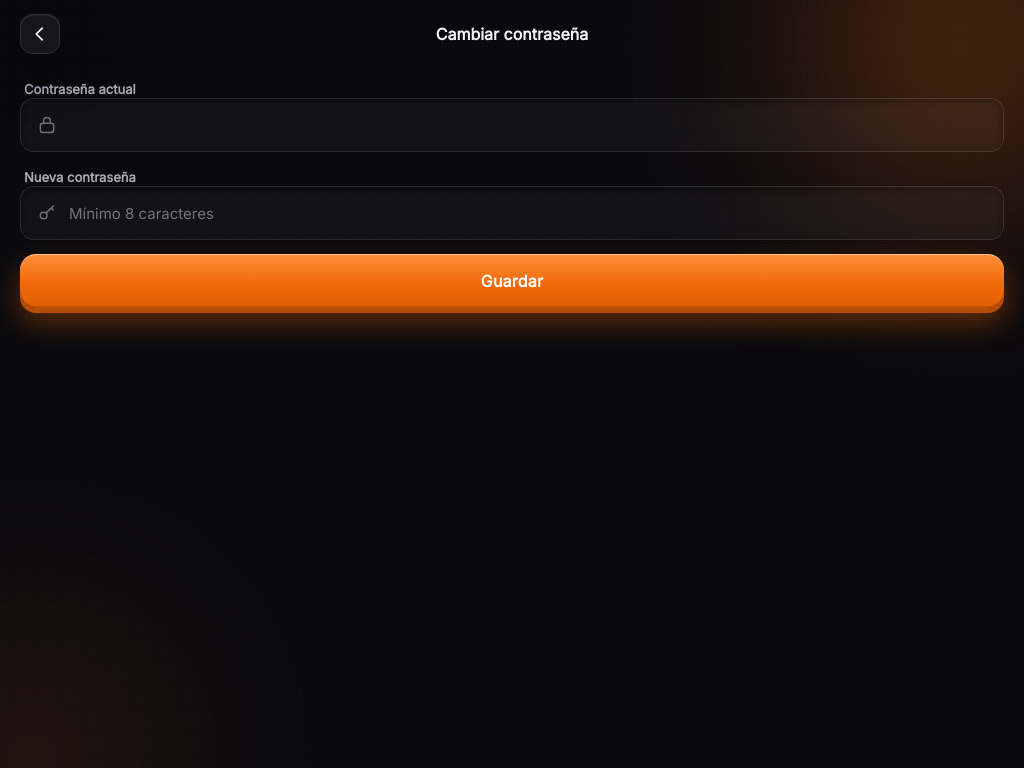
Test case: cambiar contraseña
Type "vieja1234" into the password field labelled "Contraseña actual" at (528, 125), box [69,116,987,134]
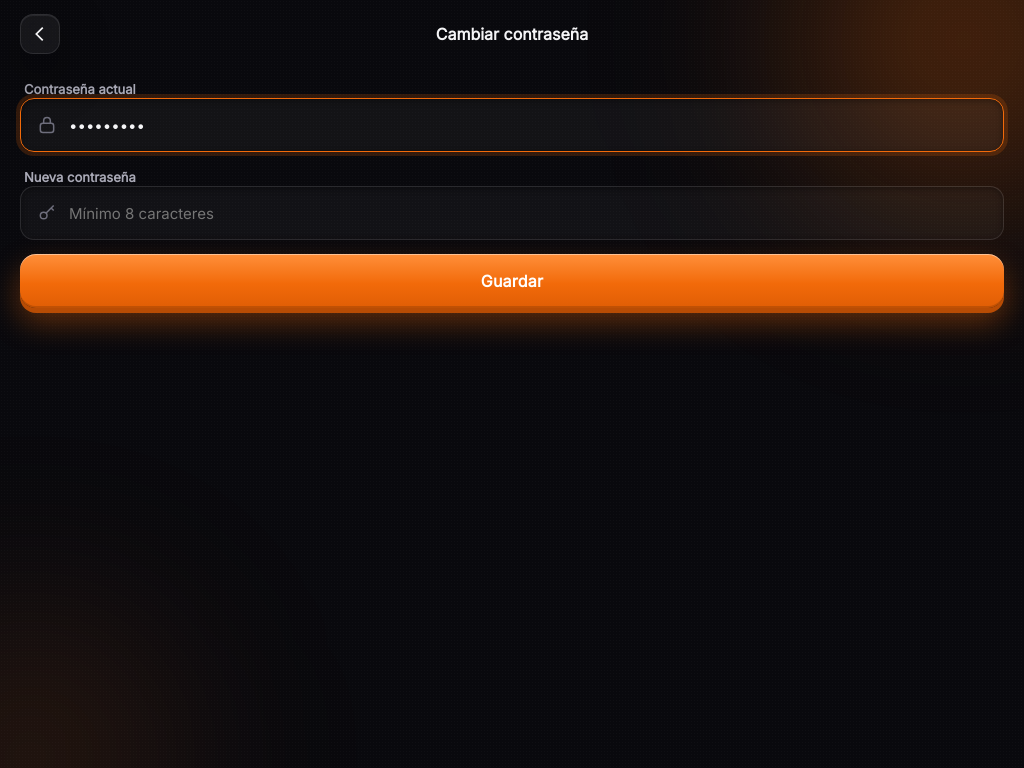
Type "nueva12345" into the password field labelled "Nueva contraseña" at (528, 213), box [69,204,987,222]
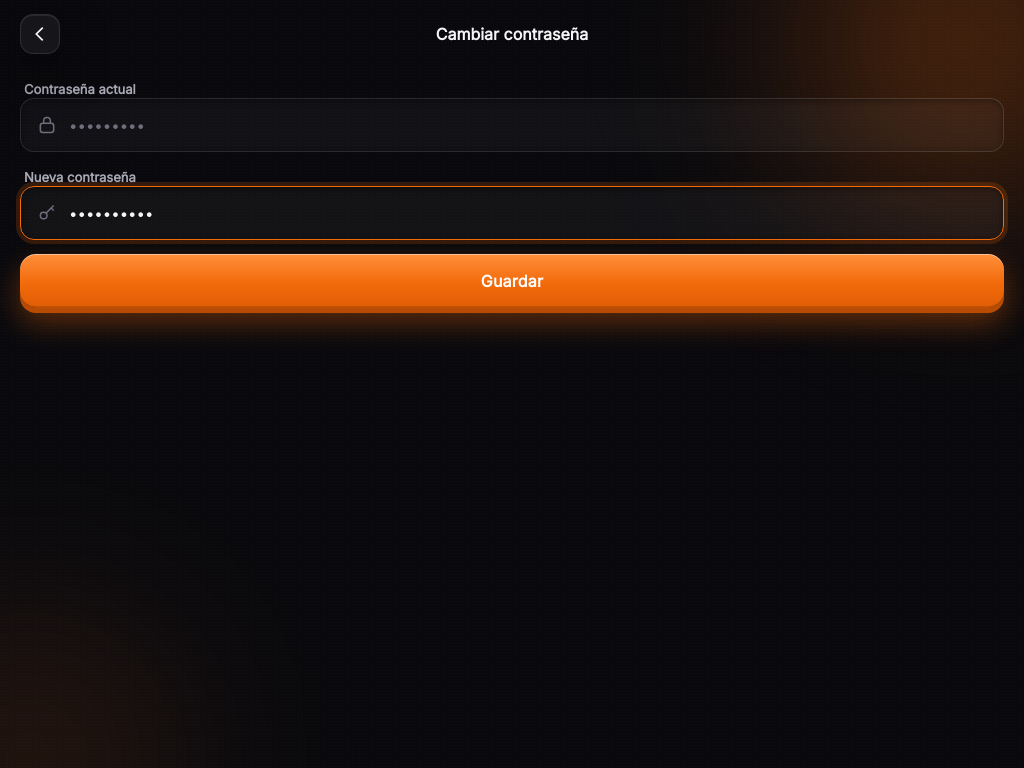
Click the button "Guardar" at (512, 281), box [20,254,1004,308]
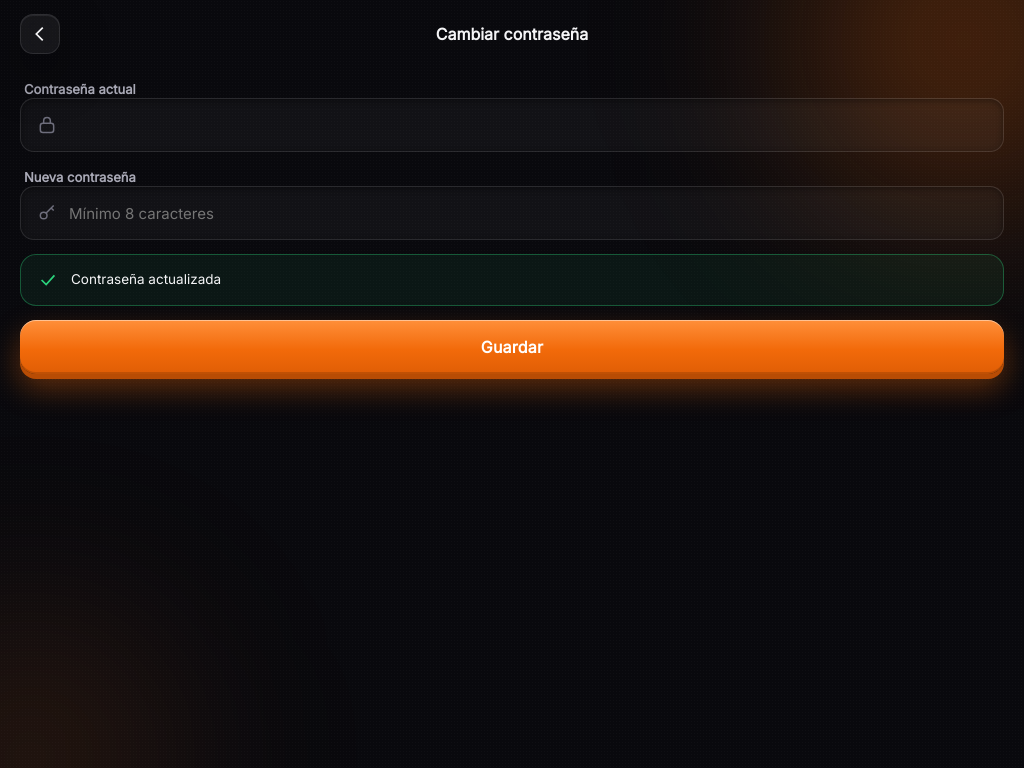
Now the text "Contraseña actualizada" is shown, box [71,270,221,290]
